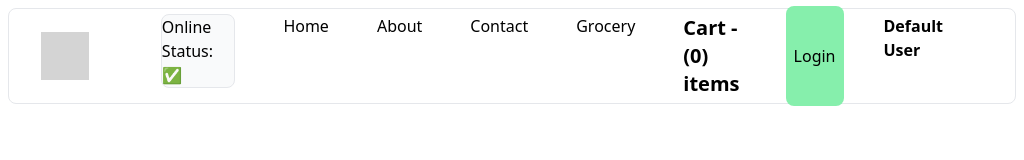
Should render the Logout Button when click the   Login Button
Click the button "Login" at (815, 56), box left=786, top=6, right=844, bottom=106
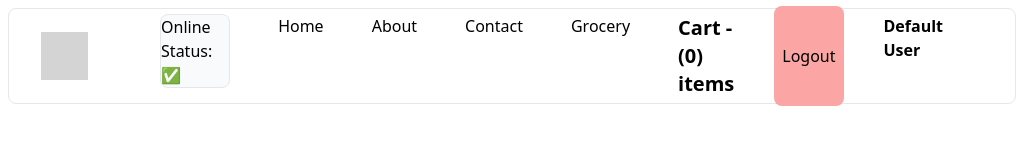
Result: the button "Logout" is shown at left=774, top=6, right=844, bottom=106
